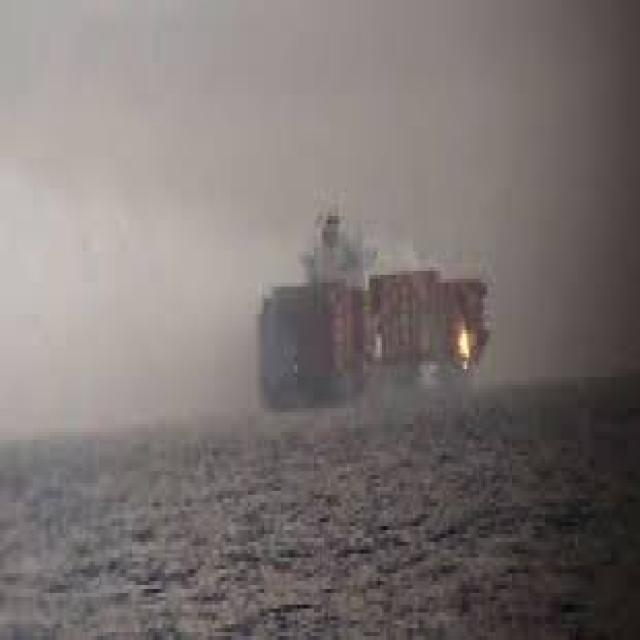cargoship: (249, 202, 495, 410)
